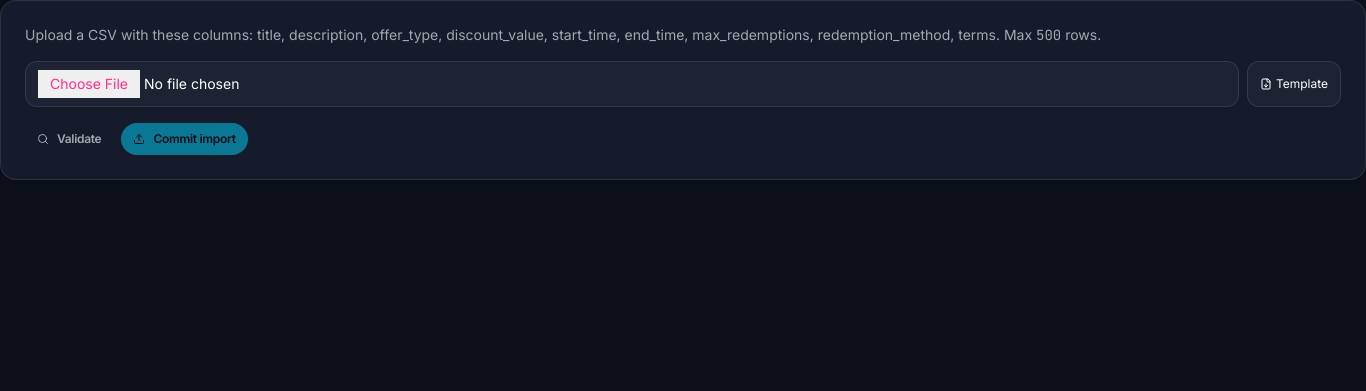
Scenario: Phase 17a bulk import shows per-row preview with errors
Earlier steps of the test are not shown.
Click the button with test id "offer-import-dry-btn" at (69, 139), box [25,123,113,155]
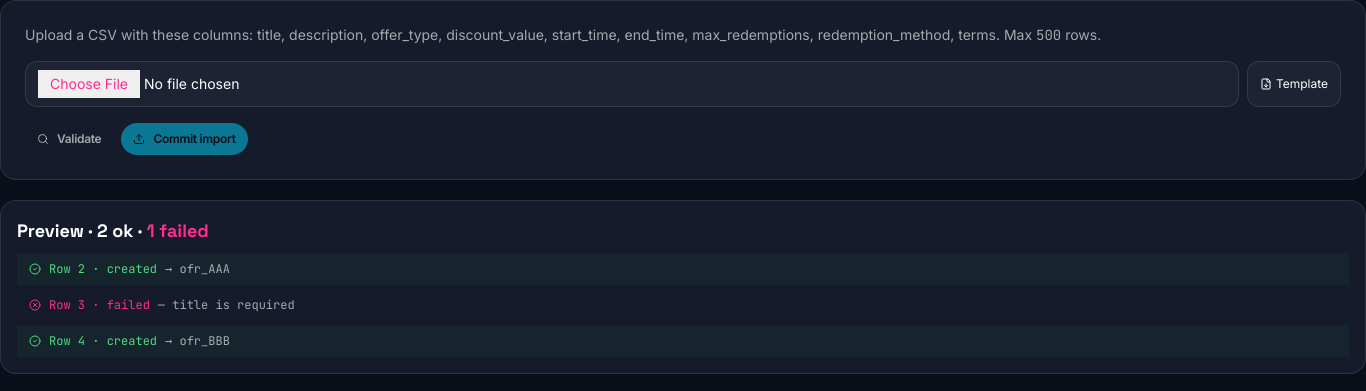
Now the element with test id "offer-import-preview" shows "title is required", box [172,297,295,313]
